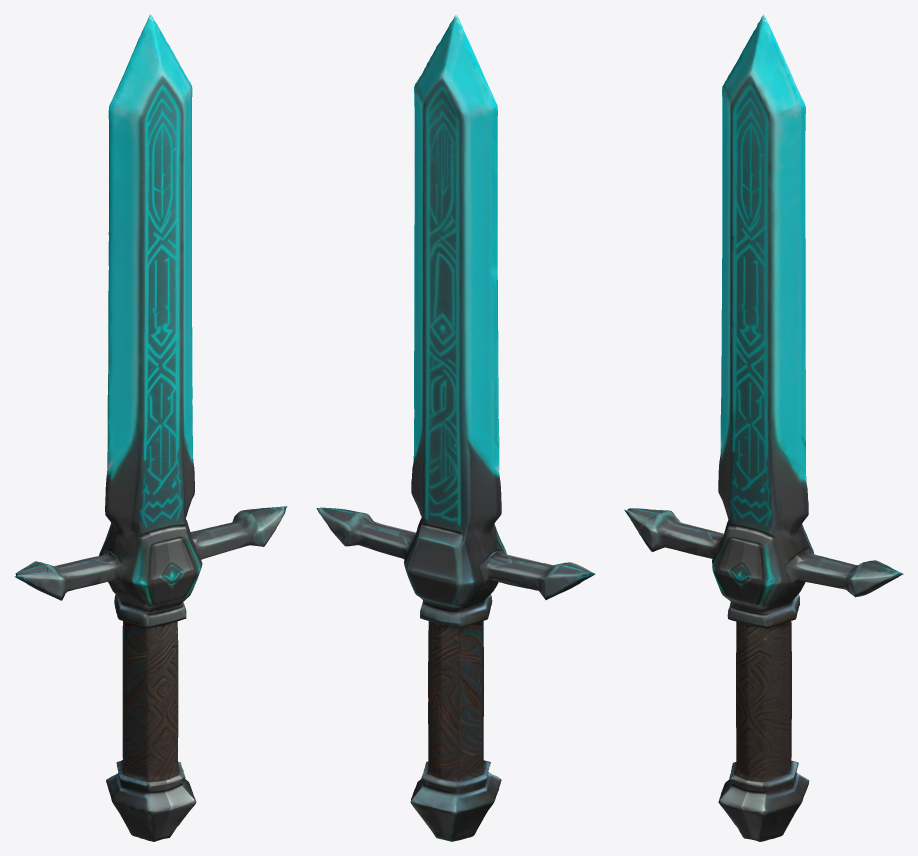
The model's file is Blade_of_Lumina.glb.
3 renders of one model, left to right at view 1: azimuth 30°, elevation 25°; view 2: azimuth 150°, elevation 25°; view 3: azimuth 330°, elevation 25°, orthographic.
Bounding box in the file's own units: 0.7054 × 1.99 × 0.2076.
Materials: 1 (1 with a texture image).
